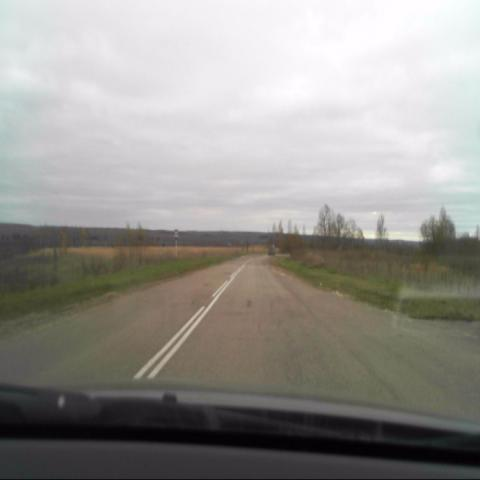5_16: (173, 227, 179, 241)
